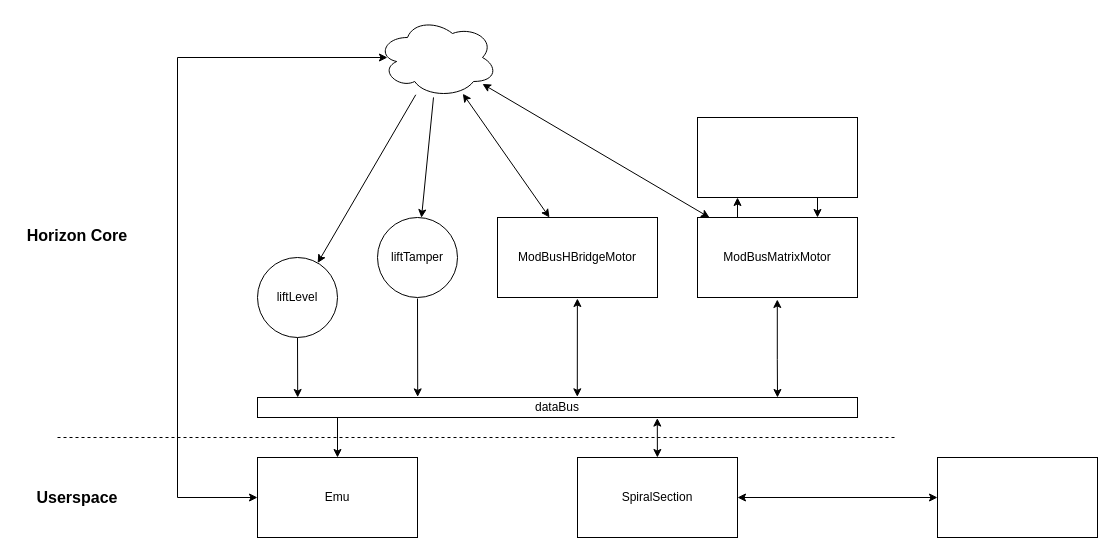
Some shapes in this 1115 by 555 pixel diagram are drawn without their labels. Here are the shapes that lost their labels. From the top down, the centre of each, then its label:
the point at 437,57: MQTT
the point at 777,157: KC
the point at 1017,497: СУ
